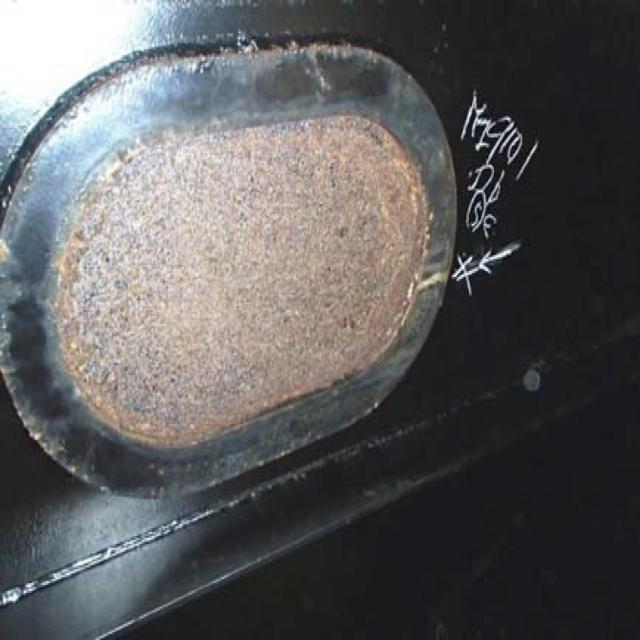corrosion: (44, 113, 436, 437)
